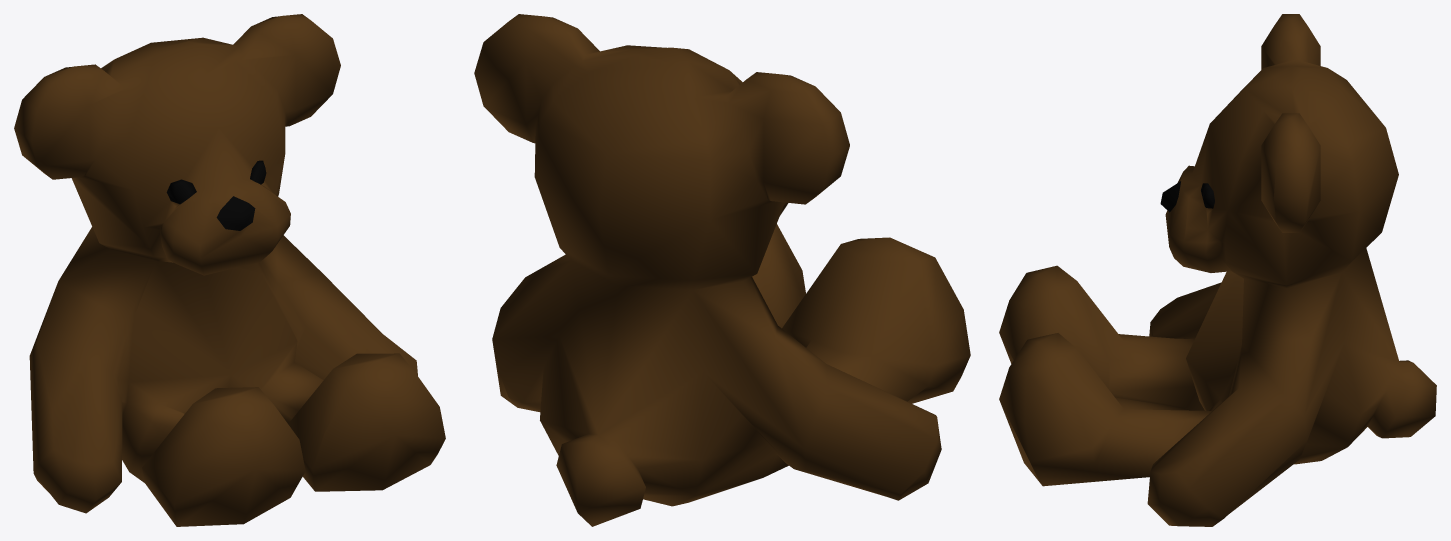
The model's file is BallpitBear.fbx.
The picture shows the model from 3 angles, left to right: view 1: azimuth 30°, elevation 25°; view 2: azimuth 150°, elevation 25°; view 3: azimuth 270°, elevation 25°; orthographic projection. The views are drawn at different scales.
Parts seen in each view (by area): view 1: Bear; view 2: Bear; view 3: Bear.
Boxes of the visible parts, x1=… form: Bear: x1=14, y1=14, x2=445, y2=526; Bear: x1=474, y1=14, x2=970, y2=526; Bear: x1=999, y1=14, x2=1436, y2=526.
Bounding box in the file's own units: 161 × 160 × 165.
